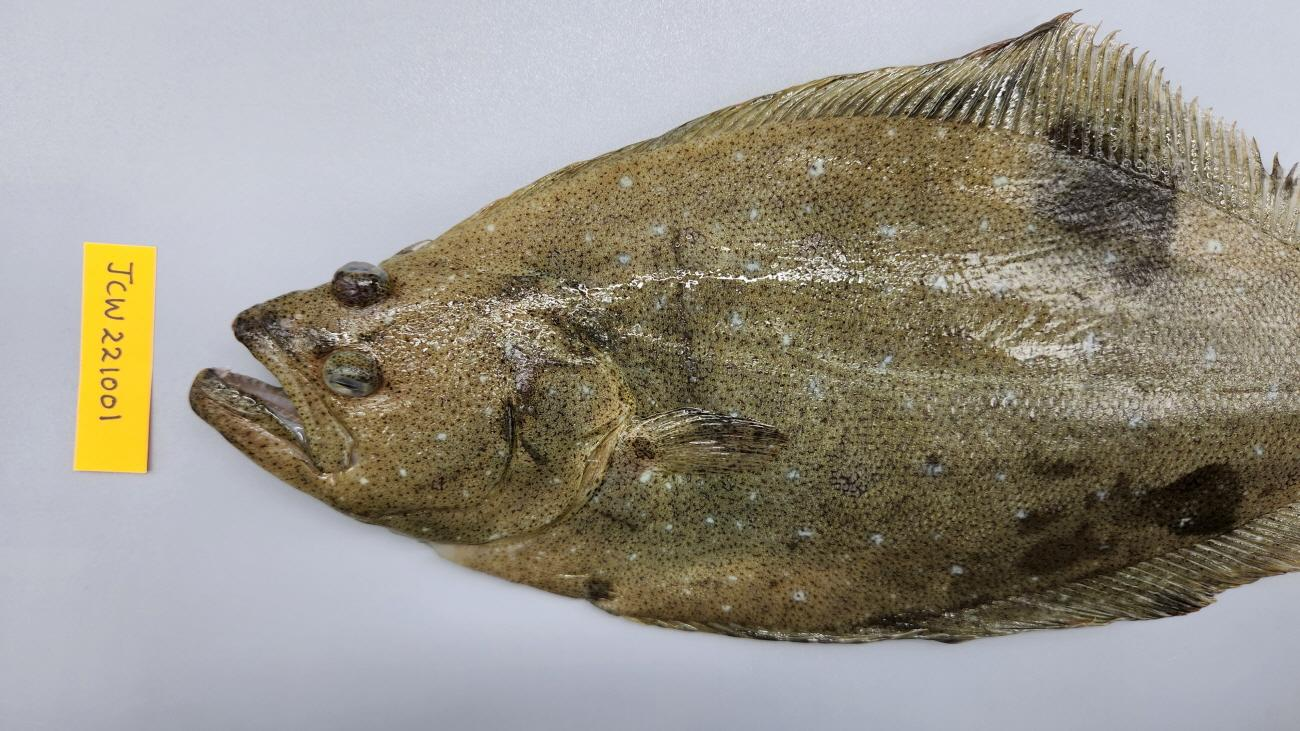POOUN: (190, 10, 1300, 644)
